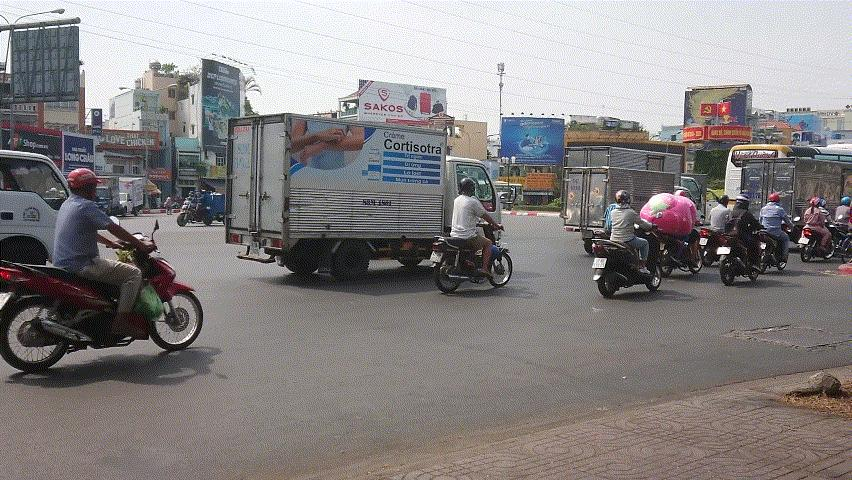driver: (0, 168, 204, 374), (428, 177, 514, 295), (590, 190, 663, 297), (715, 194, 770, 286), (758, 193, 800, 274), (796, 196, 844, 263), (699, 194, 731, 266)
helmet: (66, 167, 103, 201), (457, 178, 477, 198), (614, 190, 632, 207), (736, 194, 750, 210), (718, 194, 729, 208), (768, 193, 780, 204), (810, 196, 821, 208), (841, 196, 851, 207)
